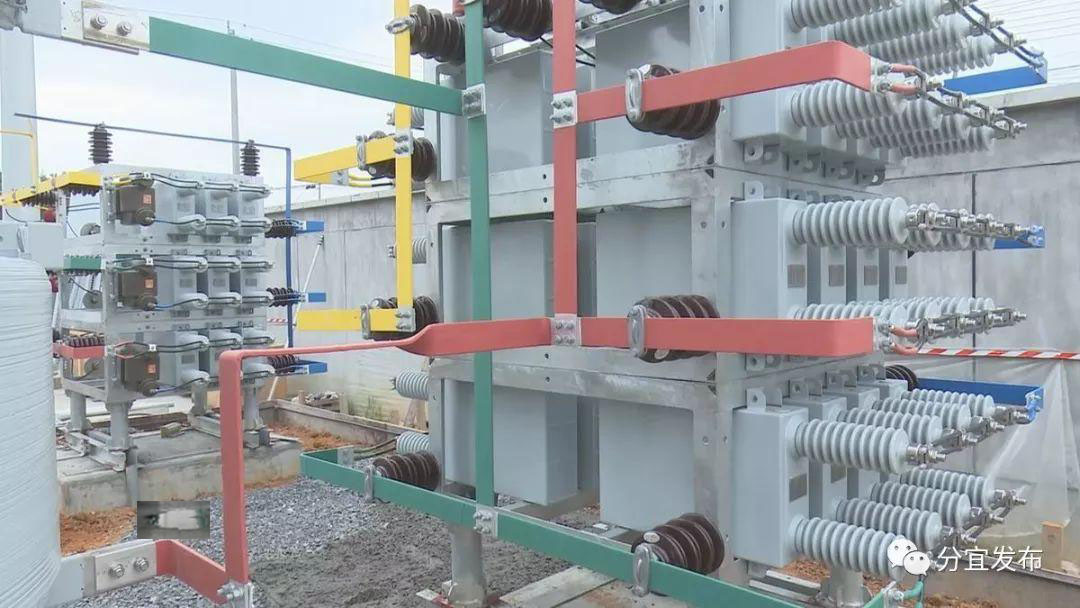oil: (138, 502, 208, 539)
